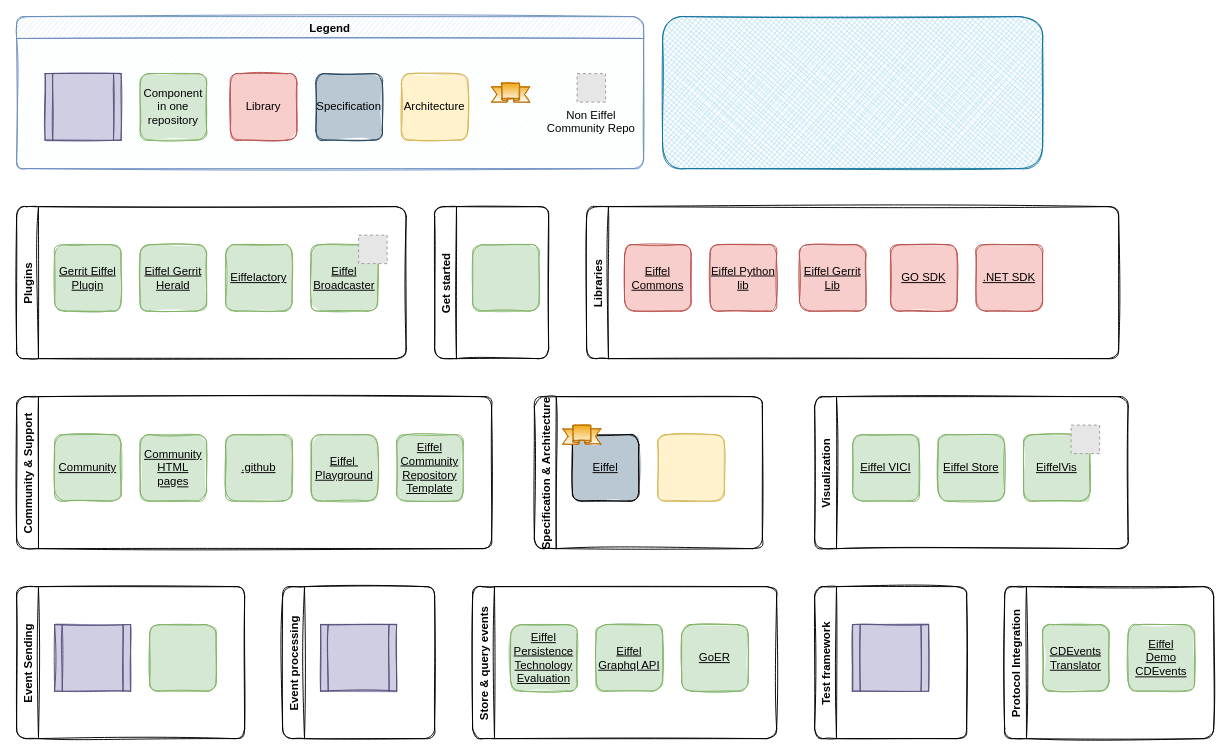
The diagram is 1230 pixels wide and 755 high, and some of its shapes have lost their labels. Grey dashed boxes stand in for pictures. Here are the shapes that lost their labels. From the top down, the centre of each, then its label:
At pixel 82 106: "Component in many repositories".
At pixel 510 92: "Graduated".
At pixel 852 92: "Eiffel Community Landscape".
At pixel 505 277: "Eiffel easy2use".
At pixel 690 467: "Sepia".
At pixel 92 657: "REMReM".
At pixel 182 657: "Simple Event Sender".
At pixel 358 657: "Eiffel Intelligence".
At pixel 890 657: "ETOS".
